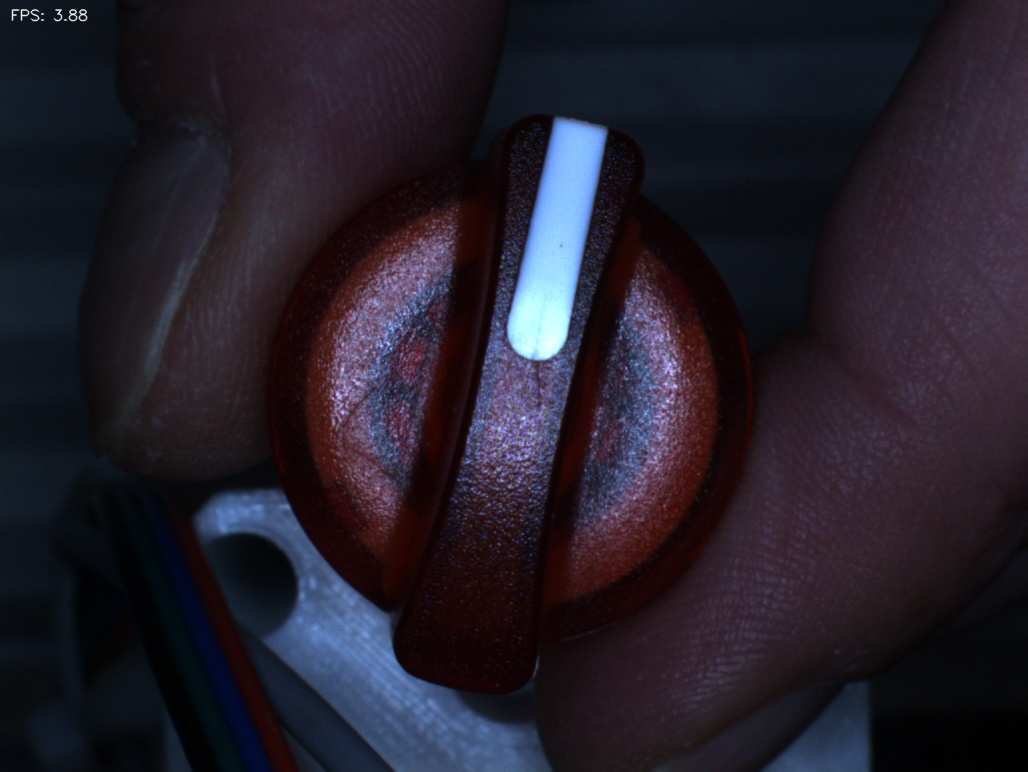PointNoir: (534, 208, 594, 274)
